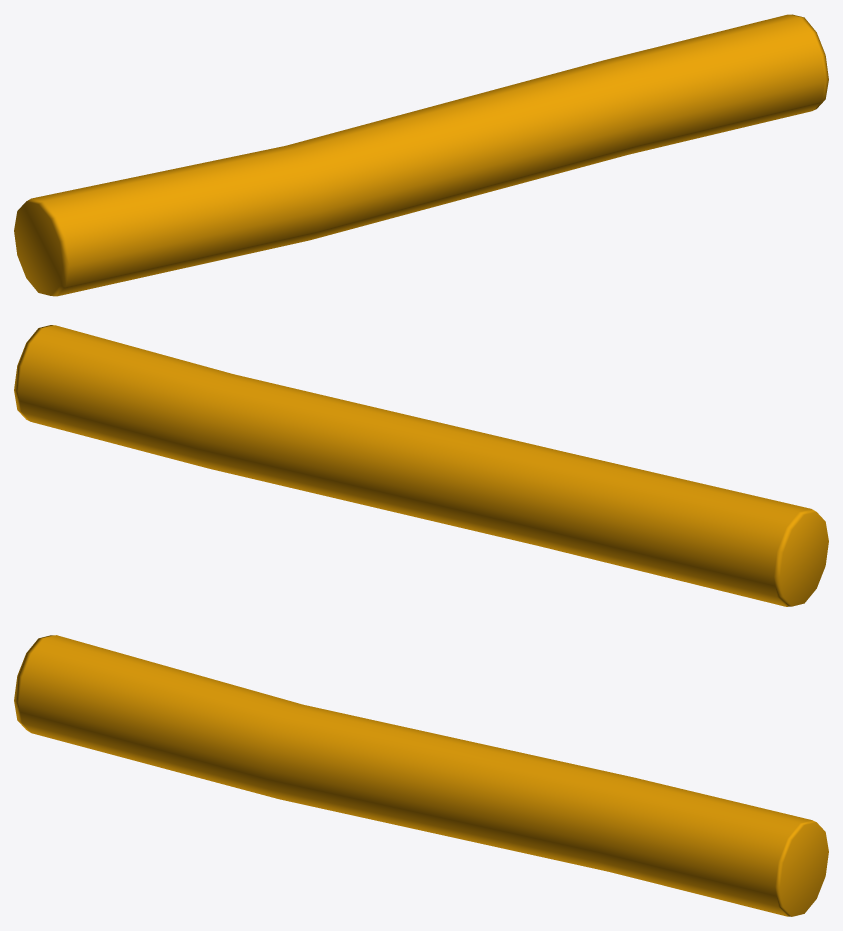
The model's file is Log_03.fbx.
3 views of the same model, one above another, from view 1: azimuth 30°, elevation 25°; view 2: azimuth 150°, elevation 25°; view 3: azimuth 330°, elevation 25° (orthographic).
Parts seen in each view (by area): view 1: Log_03; view 2: Log_03; view 3: Log_03.
Part boxes in pixels (x1=…): Log_03: x1=14, y1=14, x2=828, y2=296; Log_03: x1=14, y1=325, x2=828, y2=606; Log_03: x1=14, y1=635, x2=828, y2=916.
Size of the model in its own units: 146 by 17.19 by 17.94.
